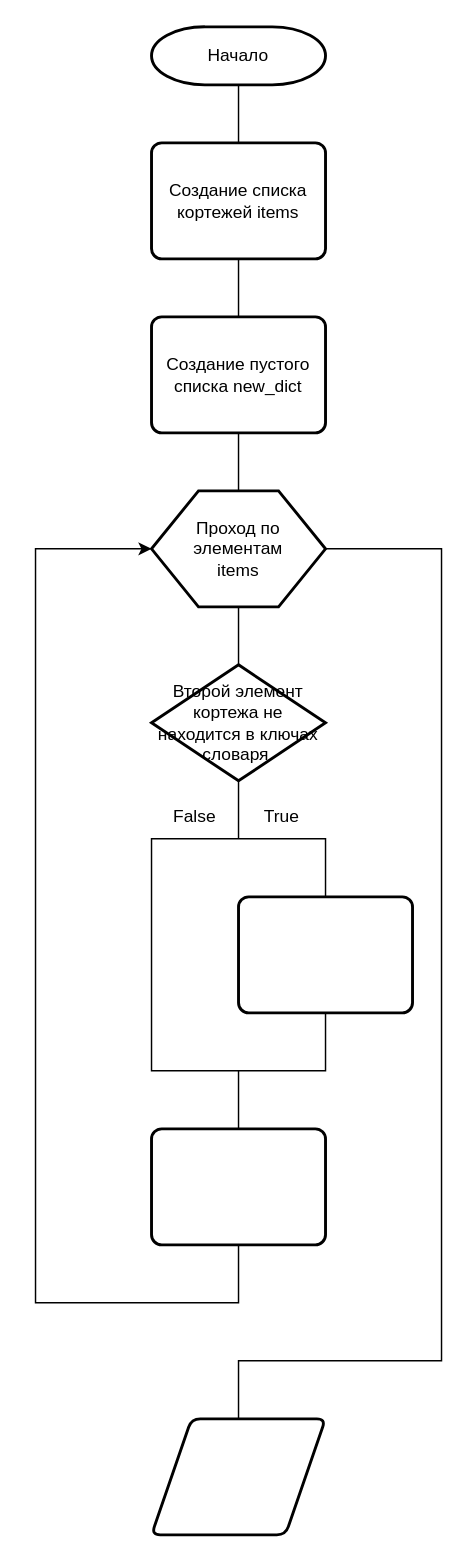
This 468x1560 diagram has some shape labels left out. The shapes that lost their labels are listed below. From the top down, each one's centre as x and y in pixels, then its label:
At [324,954]: "Создание пустого списка по ключу в словаре".
At [237,1186]: "Добавление первого элемента кортежа в список по ключу в словаре".
At [237,1476]: "Вывод new_dict".
